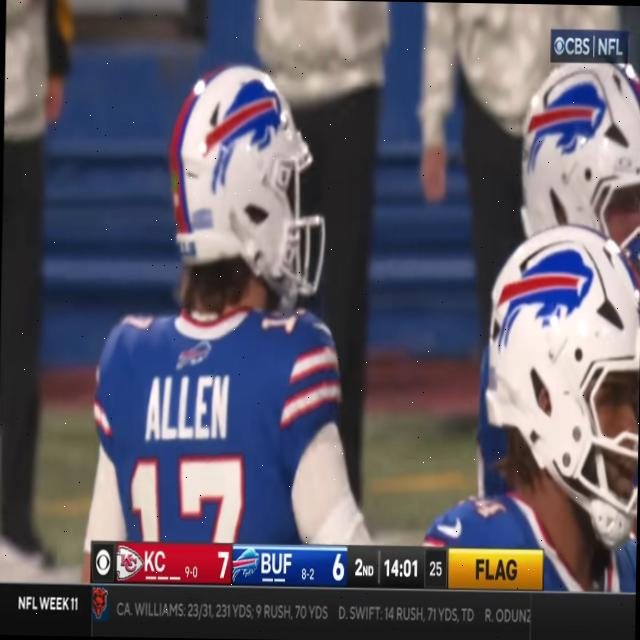Player: (100, 71, 356, 540), (433, 226, 640, 548)
